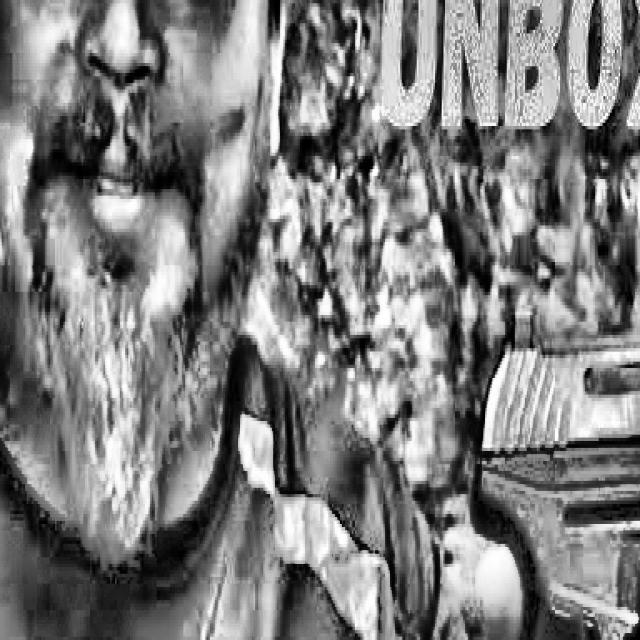Ruger: (468, 298, 640, 640)
